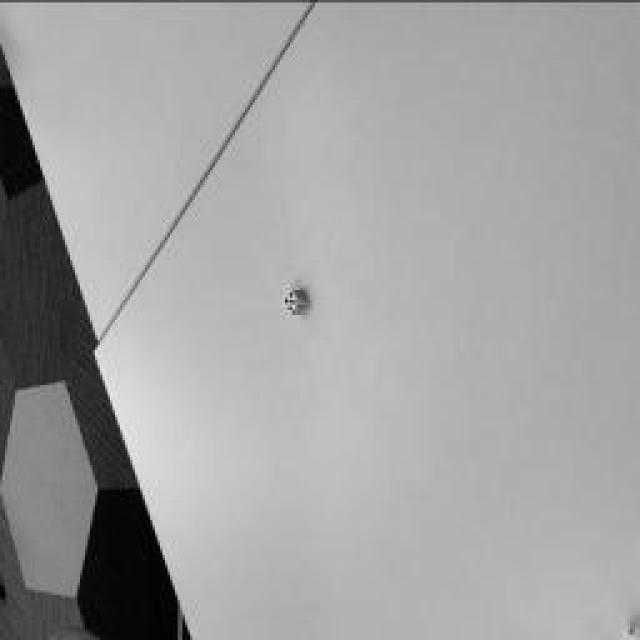dice_5: (284, 288, 296, 312)
